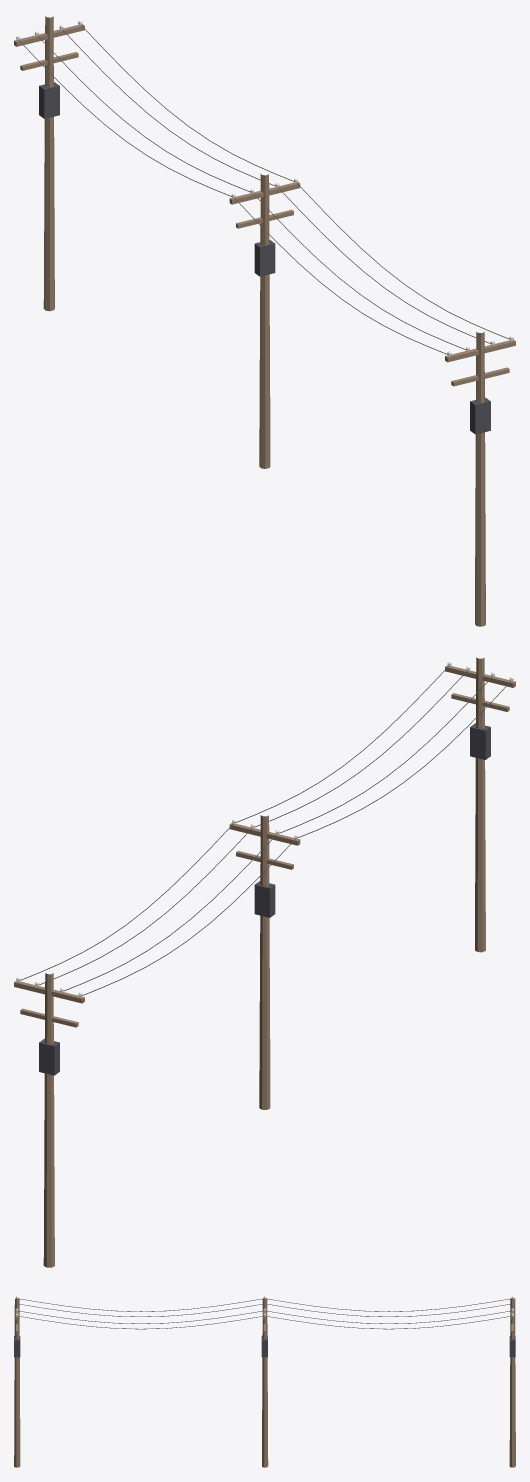
File: nagao_utility_poles.glb
The picture shows the model from 3 angles, top to bottom: view 1: azimuth 30°, elevation 25°; view 2: azimuth 150°, elevation 25°; view 3: azimuth 270°, elevation 25°; orthographic projection. The views are drawn at different scales.
Visible parts, largest first — view 1: nagao_utility_poles; view 2: nagao_utility_poles; view 3: nagao_utility_poles.
Part boxes in pixels (x1,y1,x2,y2): nagao_utility_poles: (14,16,515,626); nagao_utility_poles: (14,657,515,1267); nagao_utility_poles: (14,1296,515,1467).
Size of the model in its own units: 2.2 by 9 by 24.31.
